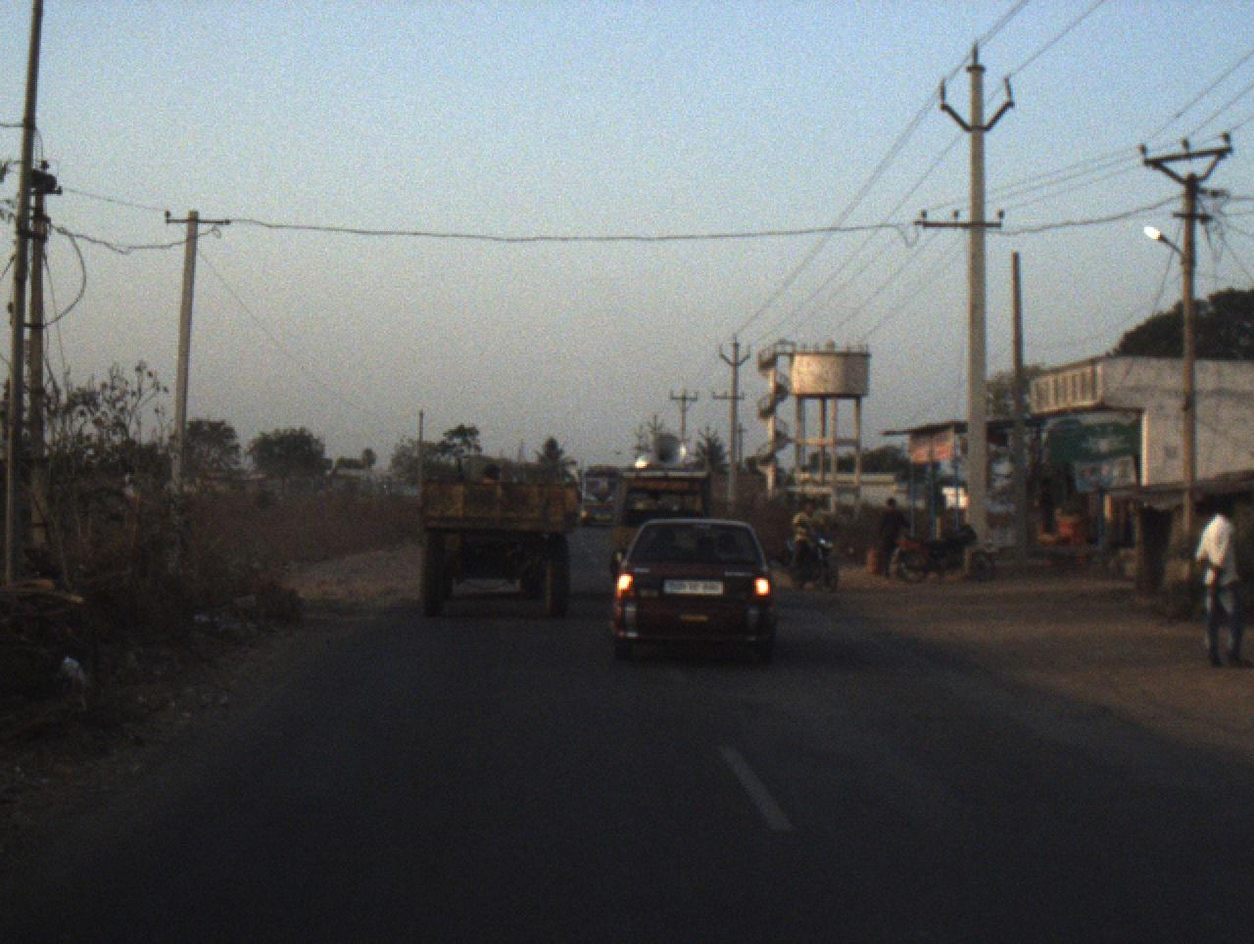streetlight: (1143, 225, 1197, 286)
